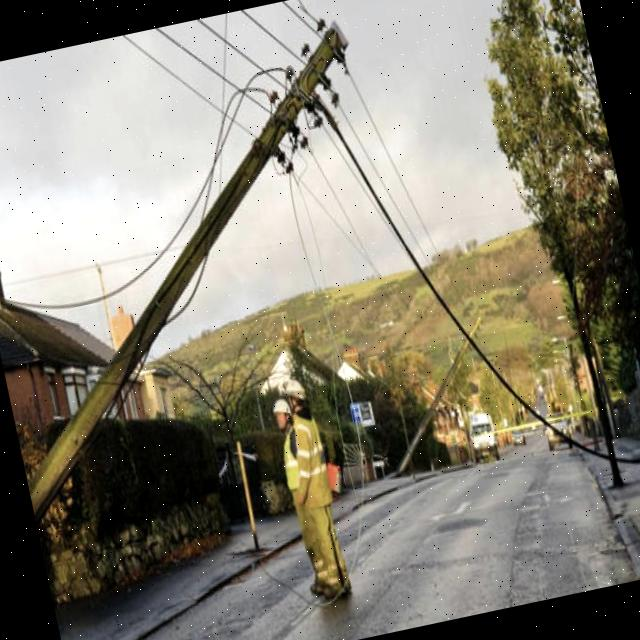Broken Pole: (21, 13, 365, 536)
